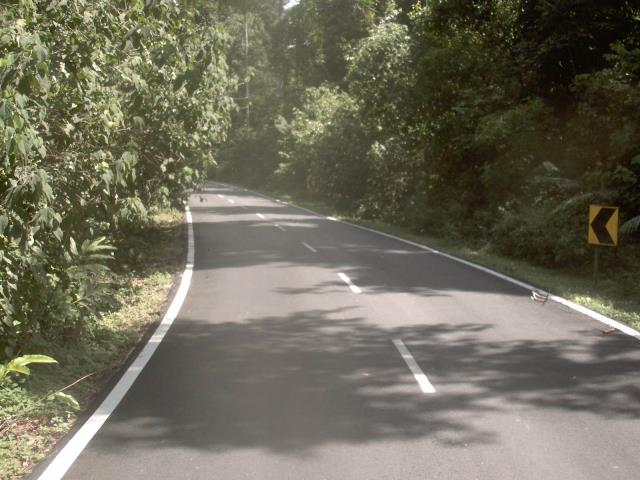traffic_sign: (580, 197, 626, 255)
